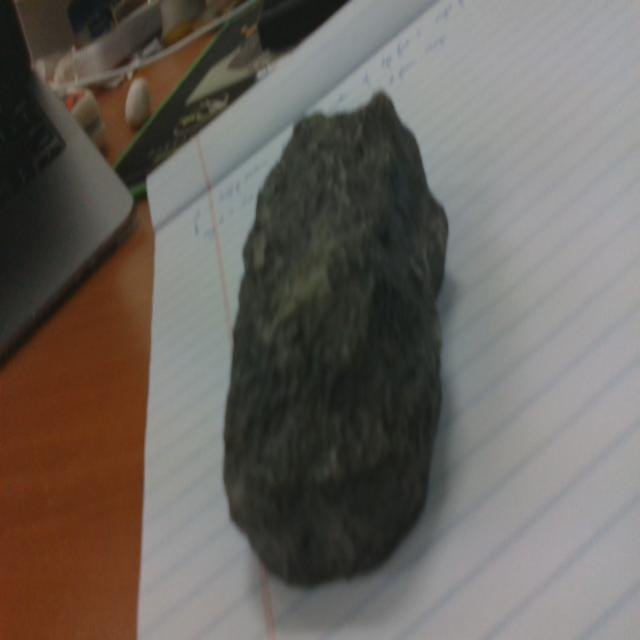stone: (222, 88, 449, 588)
